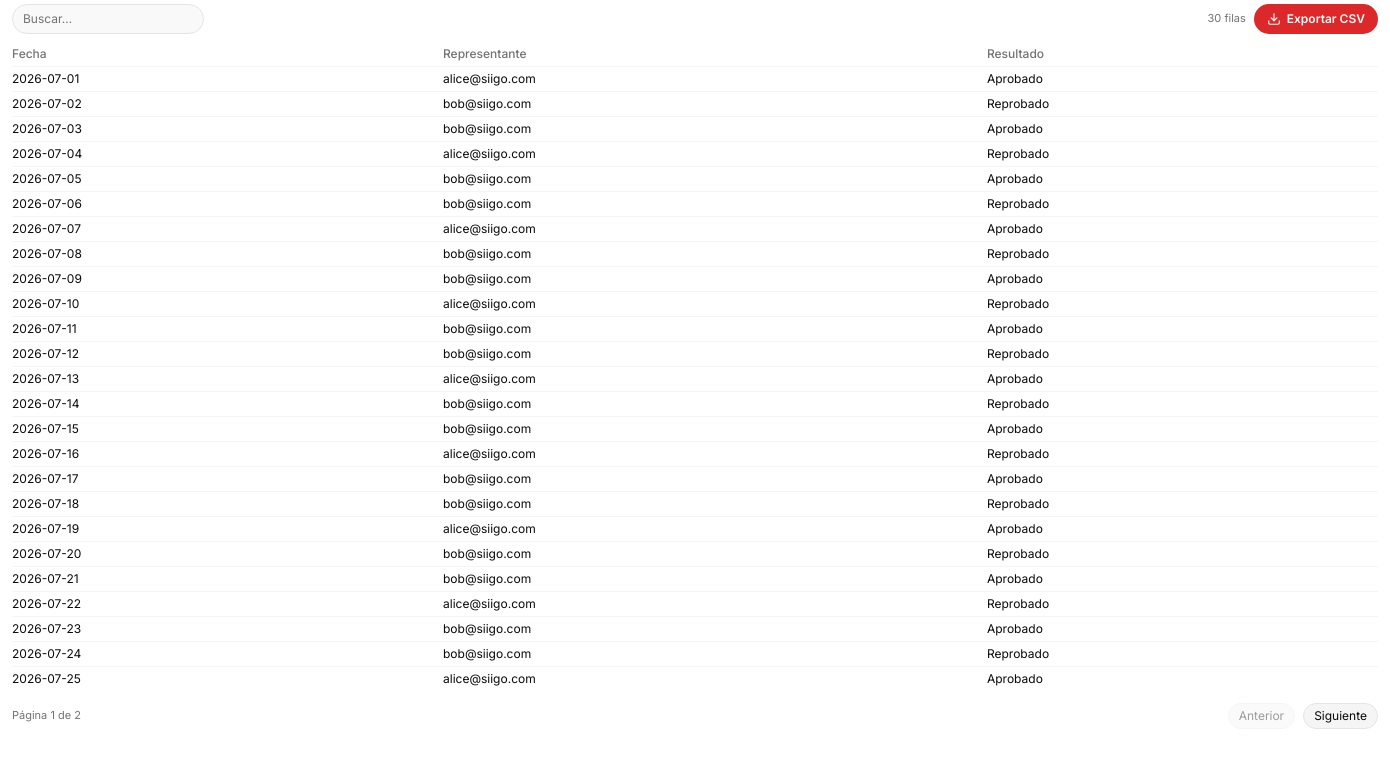
Test: ReportsTable › filters rows via the search box, across every column
Type "alice" into the search field with placeholder "Buscar…" at (108, 19), box top-left (12, 4), bottom-right (204, 34)
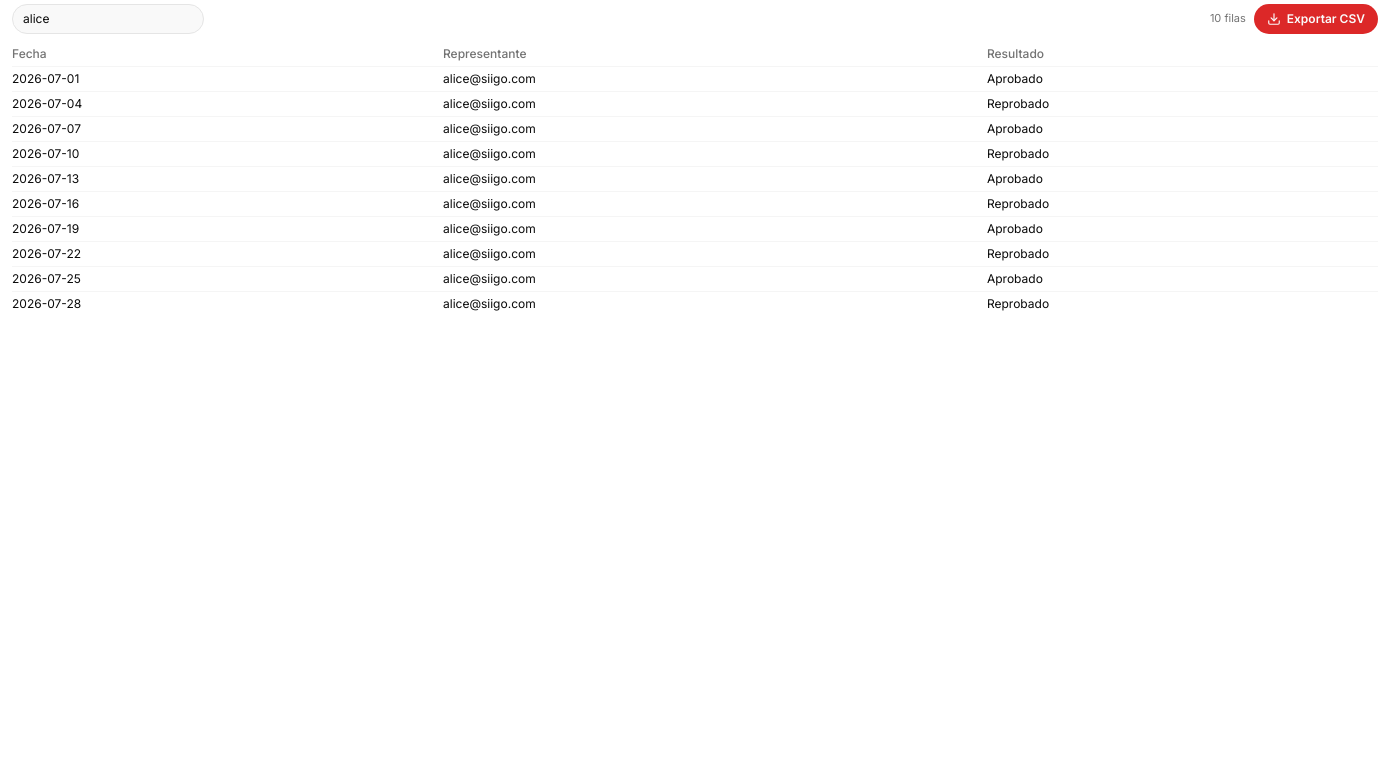
expect the text "10 filas" is shown: met, box top-left (1210, 10), bottom-right (1246, 28)
